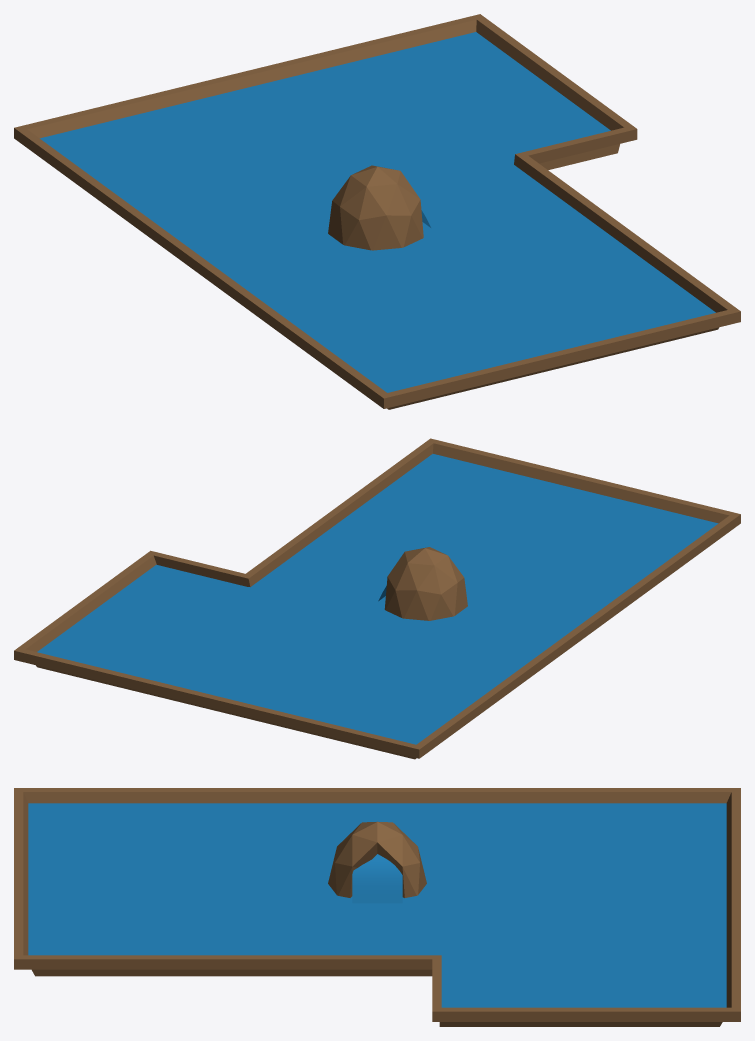
The model's file is Lago.glb.
3 renders of one model, top to bottom at view 1: azimuth 30°, elevation 25°; view 2: azimuth 150°, elevation 25°; view 3: azimuth 270°, elevation 25°, orthographic. The views are drawn at different scales.
Parts seen in each view (by area): view 1: Agua, Lago, Roca; view 2: Agua, Lago, Roca; view 3: Agua, Lago, Roca, Cascada.
Boxes of the visible parts, left/top/right/bottom form: Agua: left=40, top=32, right=715, bottom=392; Lago: left=14, top=14, right=740, bottom=409; Roca: left=328, top=165, right=423, bottom=250; Agua: left=37, top=454, right=718, bottom=744; Lago: left=14, top=438, right=740, bottom=759; Roca: left=384, top=547, right=467, bottom=620; Agua: left=28, top=803, right=726, bottom=1007; Lago: left=14, top=788, right=740, bottom=1026; Roca: left=328, top=821, right=426, bottom=897; Cascada: left=352, top=854, right=402, bottom=903.
Size of the model in its own units: 10.57 by 2.1 by 14.53.
